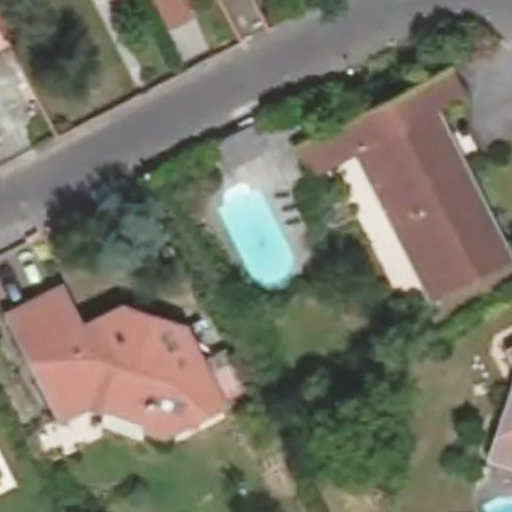pool: (213, 210, 299, 273)
